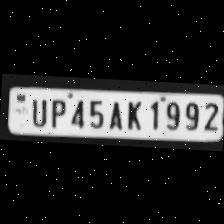1: (143, 97, 163, 130)
2: (198, 98, 220, 132)
4: (66, 96, 86, 128)
5: (83, 96, 105, 128)
9: (160, 97, 182, 130), (179, 97, 201, 130)
A: (105, 96, 125, 130)
K: (121, 97, 145, 130)
P: (45, 96, 67, 128)
U: (27, 95, 50, 127)
